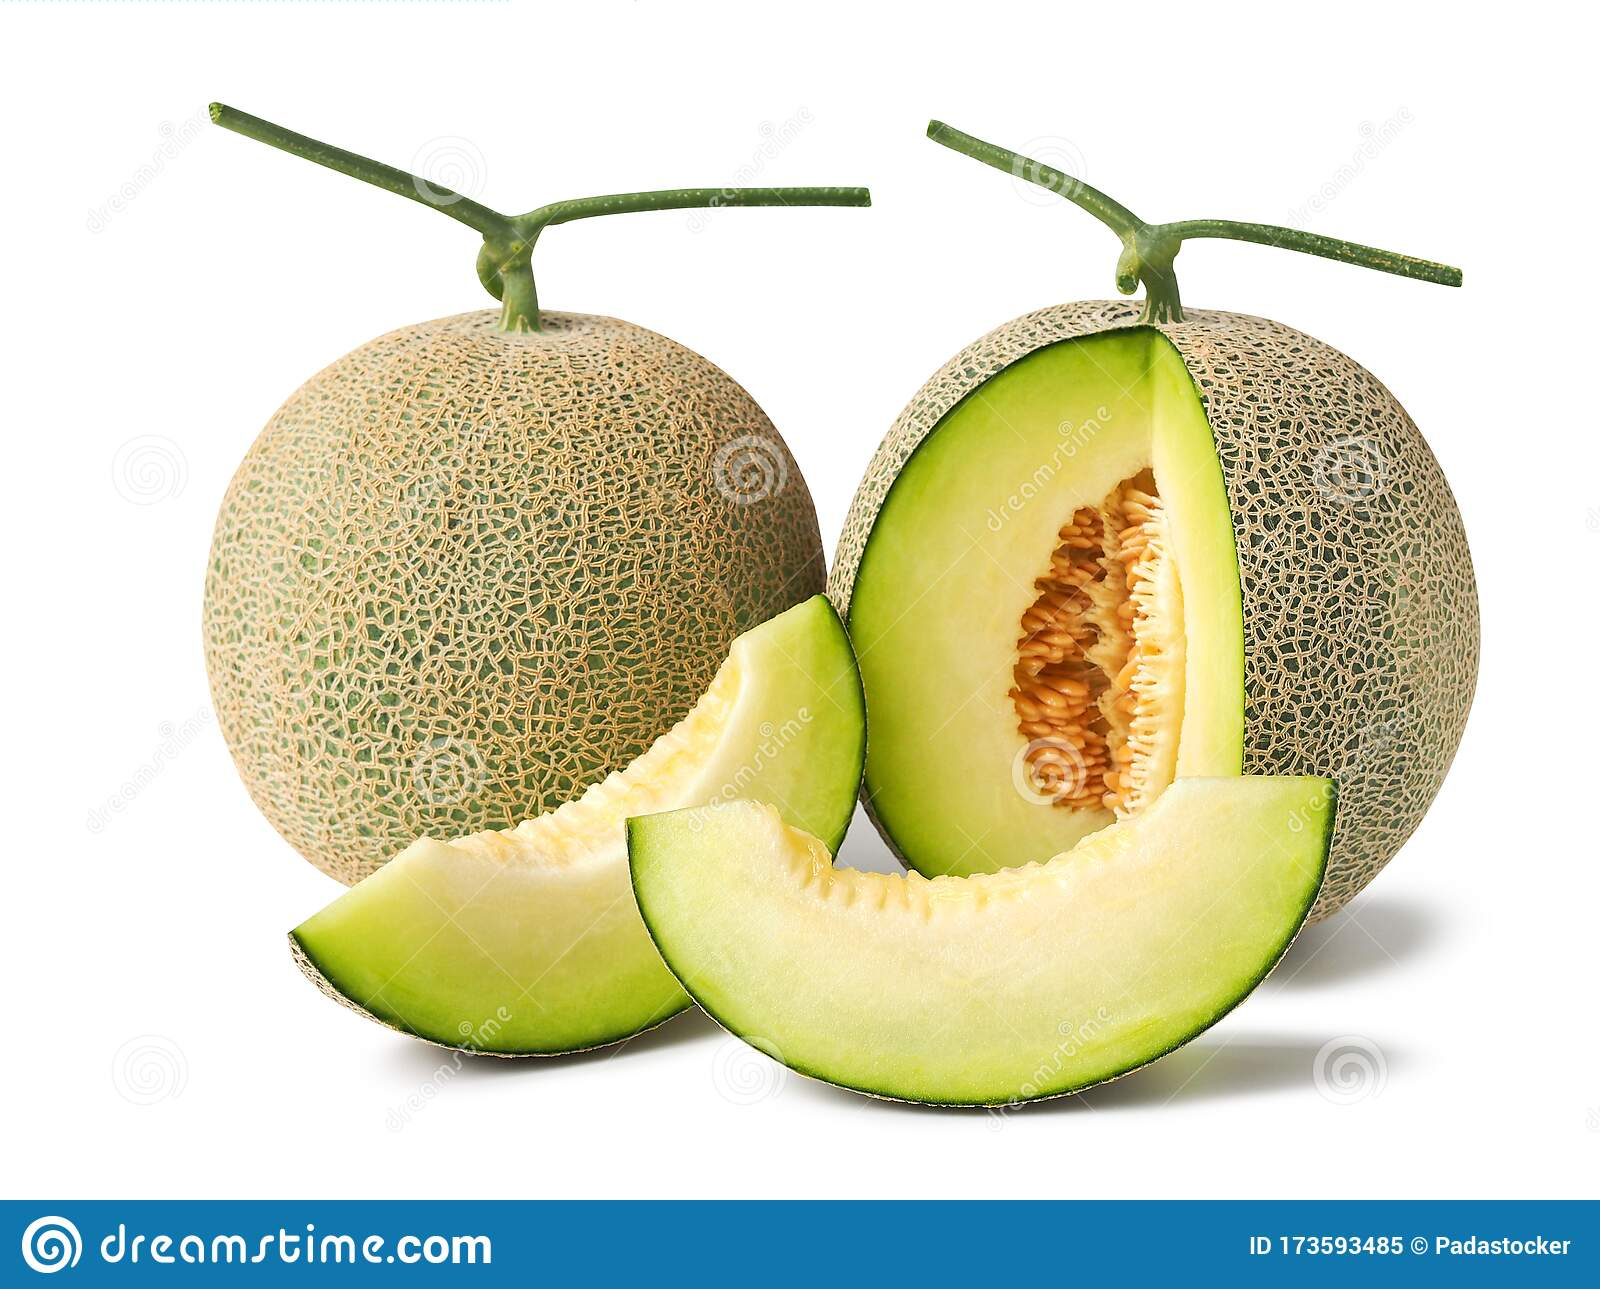Melon: (318, 587, 882, 1069), (634, 756, 1330, 1136)
